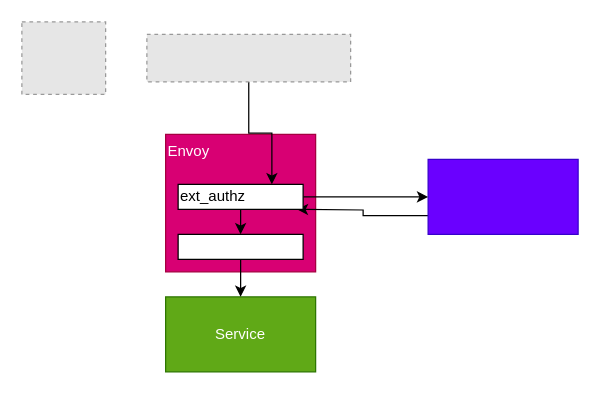
Some shapes in this 600 by 394 pixel diagram are drawn without their labels. Grey dashed boxes stand in for pictures. Here are the shapes that lost their labels. From the top down, the centre of each, then its label:
At point (502, 196): "Opa".
At point (240, 246): "router".
